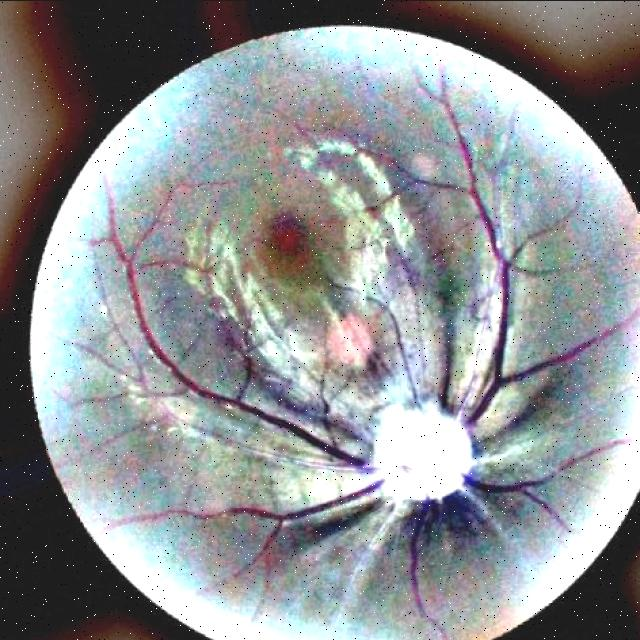Macula: (229, 180, 338, 295)
Nerves: (75, 185, 372, 476), (430, 88, 566, 459)
Optic Disk: (342, 367, 479, 538)
